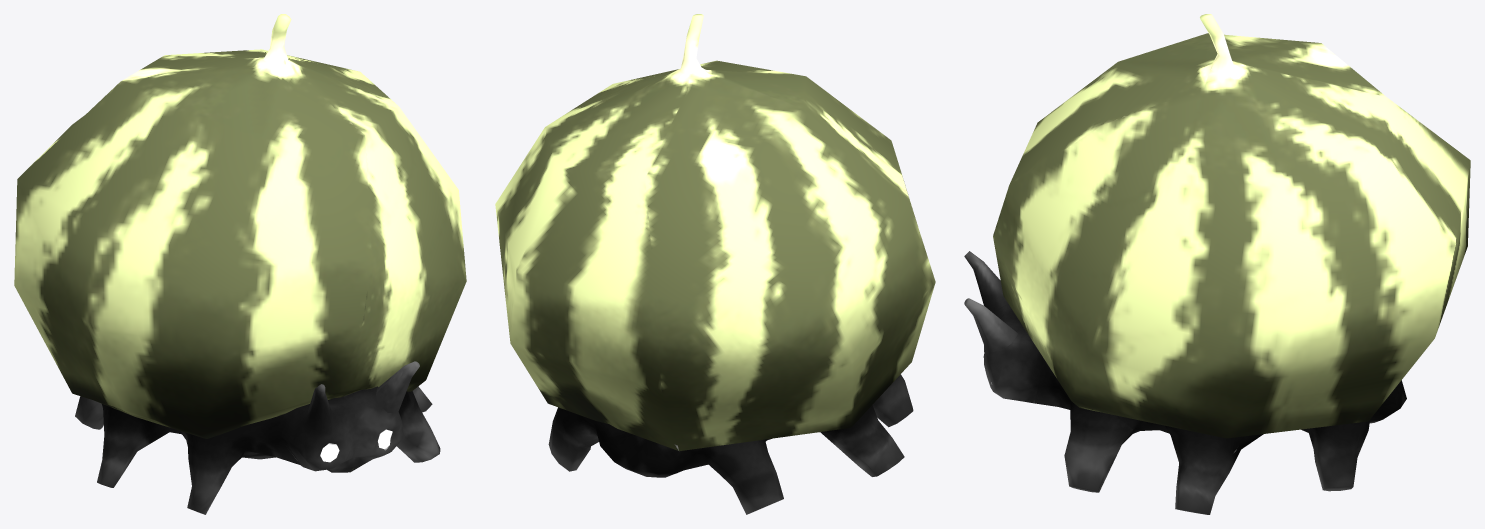
File: watermelon.glb
3 renders of one model, left to right at view 1: azimuth 30°, elevation 25°; view 2: azimuth 150°, elevation 25°; view 3: azimuth 270°, elevation 25°, orthographic. The views are drawn at different scales.
Parts seen in each view (by area): view 1: Object_2; view 2: Object_2; view 3: Object_2.
Boxes of the visible parts, x1,y1,x2,y2 form: Object_2: [14, 14, 466, 514]; Object_2: [495, 14, 935, 514]; Object_2: [964, 14, 1470, 514].
Size of the model in its own units: 10.76 by 11.69 by 12.04.
1 material, 1 textured.
